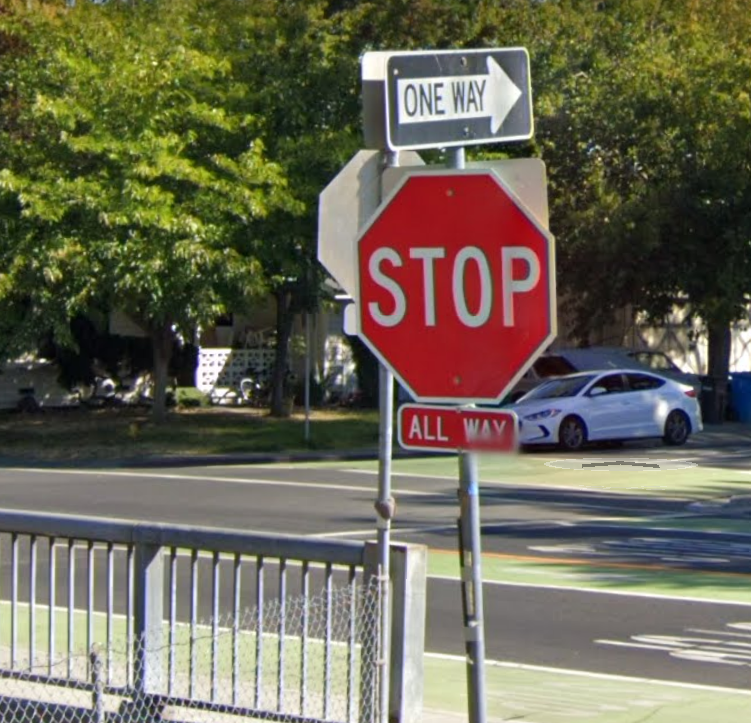stop_sign: (362, 173, 556, 403)
